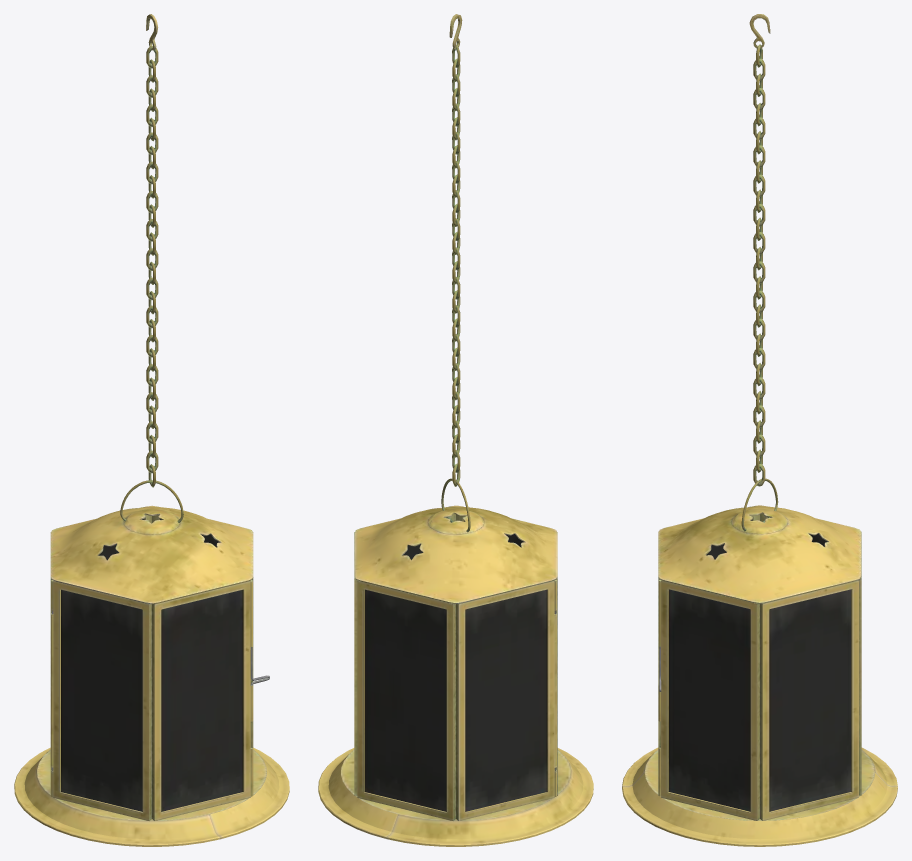
Rendered from brass_diya_lantern.a69359ed.glb.
3 views of the same model, side by side, from view 1: azimuth 30°, elevation 25°; view 2: azimuth 150°, elevation 25°; view 3: azimuth 270°, elevation 25° (orthographic).
Visible parts, largest first — view 1: brass_diya_lantern, brass_diya_lantern_chain; view 2: brass_diya_lantern, brass_diya_lantern_chain; view 3: brass_diya_lantern, brass_diya_lantern_chain.
Boxes of the visible parts, box(x1,y1,x2,y2) form: brass_diya_lantern: box(14, 505, 289, 846); brass_diya_lantern_chain: box(146, 14, 158, 487); brass_diya_lantern: box(318, 505, 593, 846); brass_diya_lantern_chain: box(449, 14, 462, 486); brass_diya_lantern: box(622, 505, 897, 846); brass_diya_lantern_chain: box(749, 14, 770, 486).
Size of the model in its own units: 0.3231 by 1 by 0.3231.
3 materials, 3 textured.
